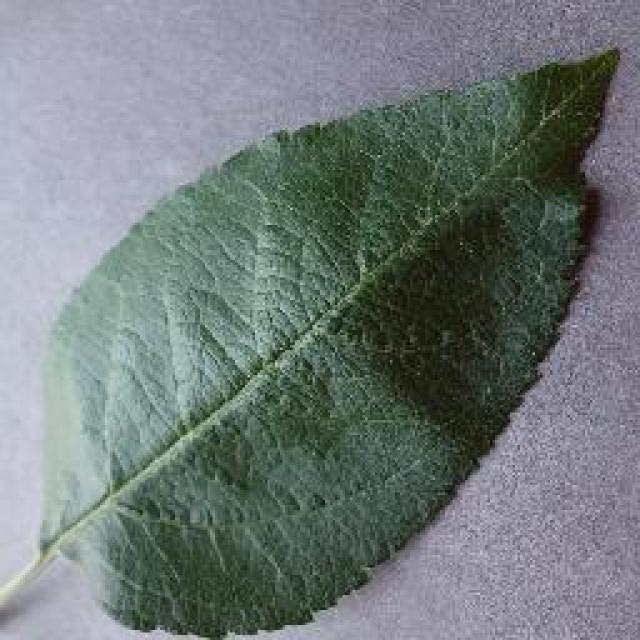apple healthy: (0, 42, 622, 637)
